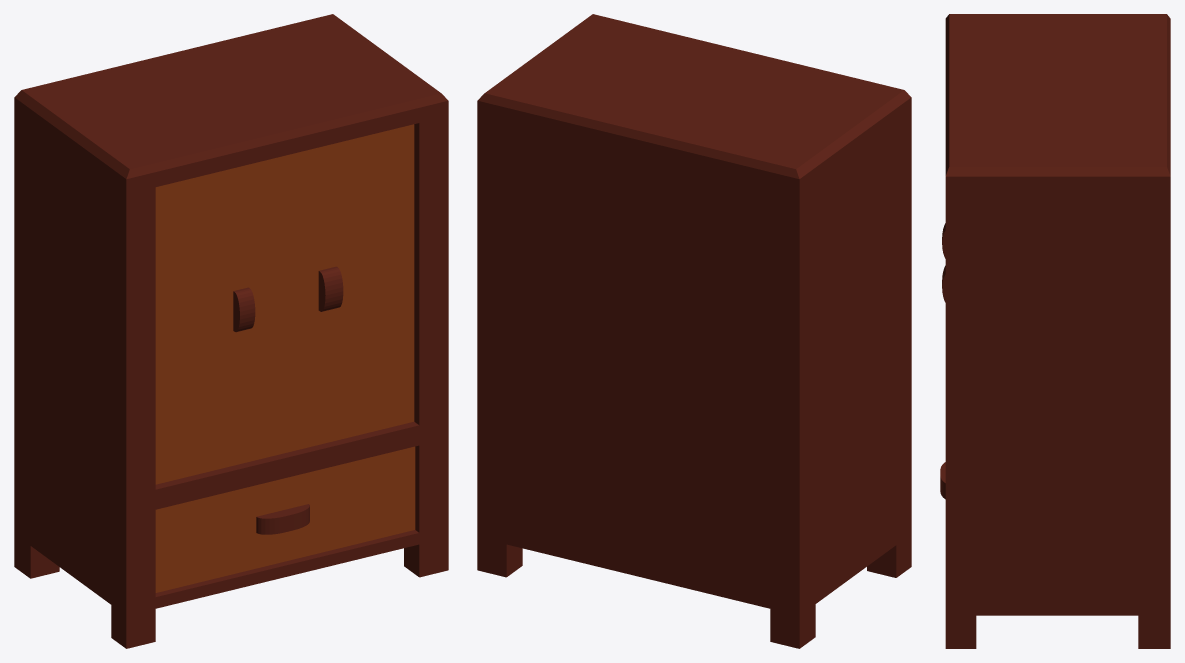
File: armoire.fbx
3 views of the same model, side by side, from view 1: azimuth 30°, elevation 25°; view 2: azimuth 150°, elevation 25°; view 3: azimuth 270°, elevation 25° (orthographic).
Parts seen in each view (by area): view 1: Cube; view 2: Cube; view 3: Cube.
Part boxes in pixels (box(x1,y1,x2,y2)): Cube: box(14, 14, 448, 648); Cube: box(477, 14, 911, 648); Cube: box(940, 14, 1170, 648).
Size of the model in its own units: 1028 by 1454 by 633.
